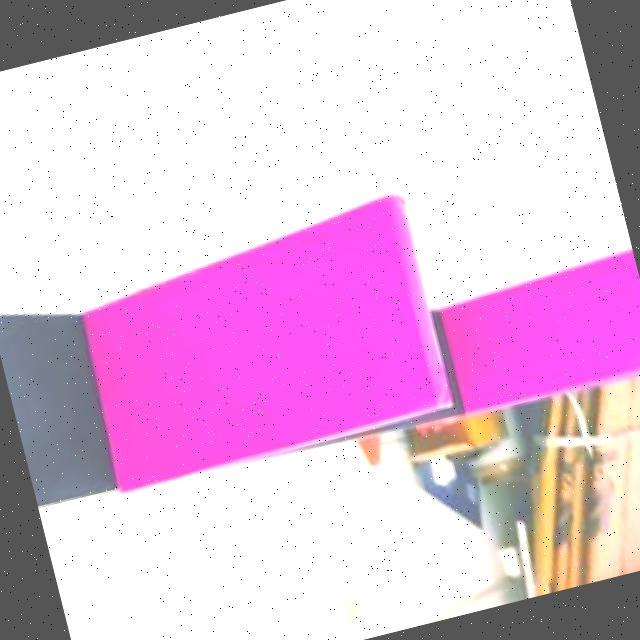xparking: (78, 216, 450, 489), (443, 255, 640, 410)
